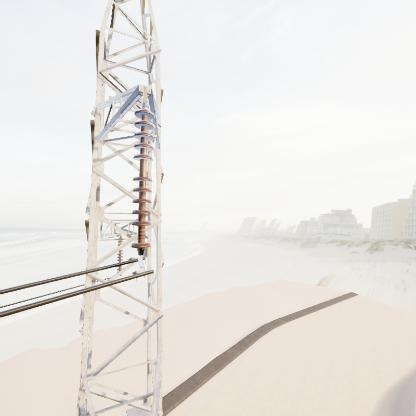insulator: (128, 104, 159, 260)
